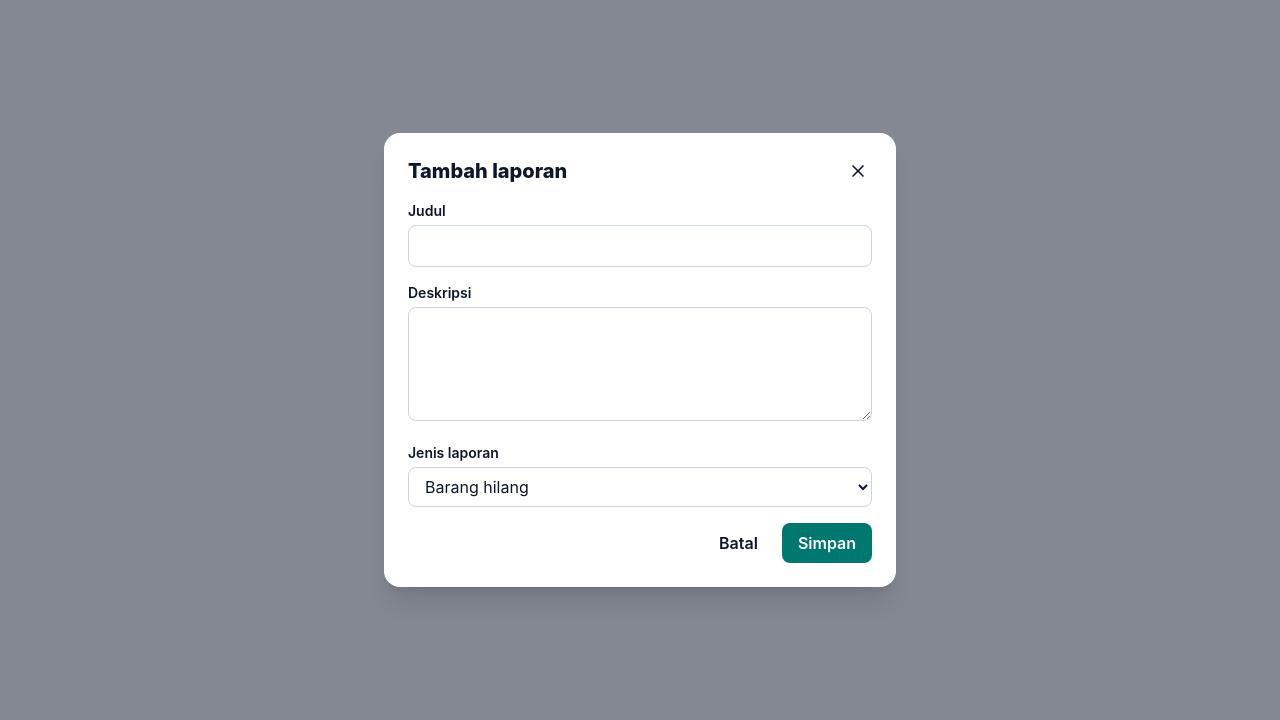
Test: AddModal › validasi: judul dan deskripsi wajib diisi
Click the button "Simpan": coordinates (827, 543) [782,523,872,563]
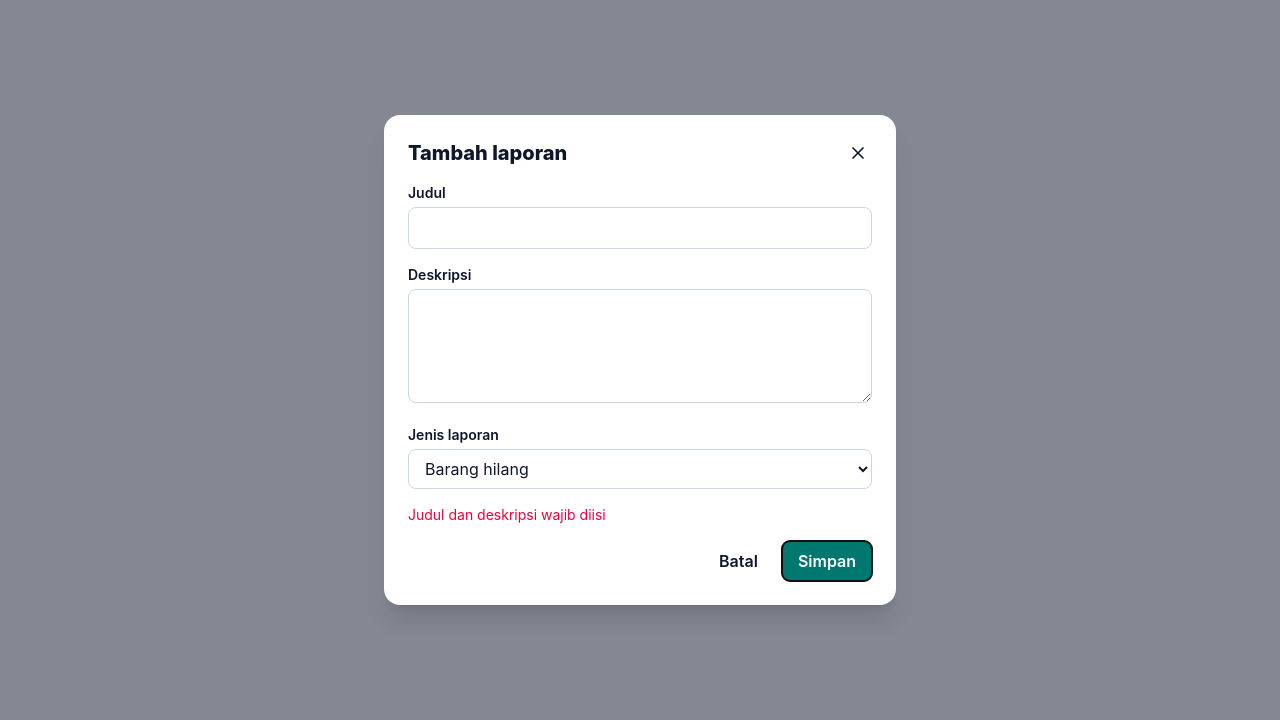
Expected: the text "Judul dan deskripsi wajib diisi" is shown, [408,506,606,523]
